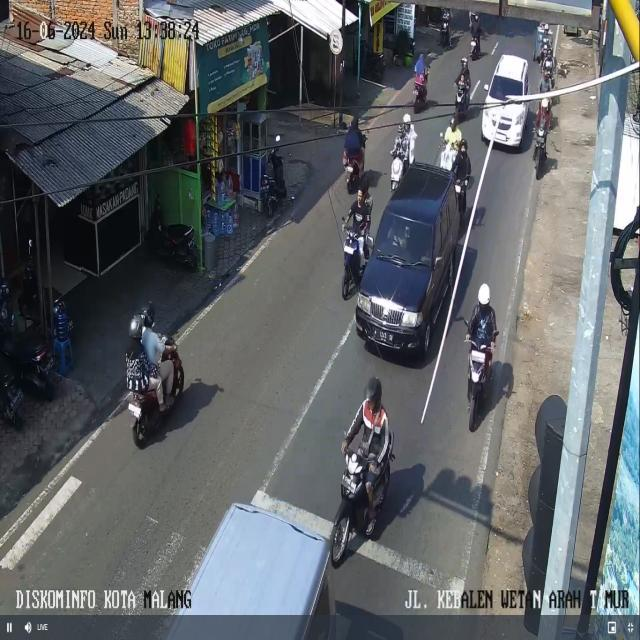Helmet: (365, 377, 381, 411), (129, 314, 144, 340), (140, 302, 155, 328), (478, 283, 489, 304), (0, 278, 9, 298), (541, 98, 548, 109), (403, 113, 410, 123), (460, 138, 467, 148), (450, 117, 456, 128), (461, 57, 467, 66), (472, 13, 478, 20)
Number Plate: (375, 329, 392, 343), (342, 476, 356, 492), (128, 403, 141, 417), (344, 245, 354, 254), (346, 165, 353, 172), (455, 184, 460, 192), (413, 89, 417, 95)
Rearview Mirror: (434, 256, 443, 267), (275, 134, 281, 142), (483, 84, 488, 90), (439, 132, 443, 137)
